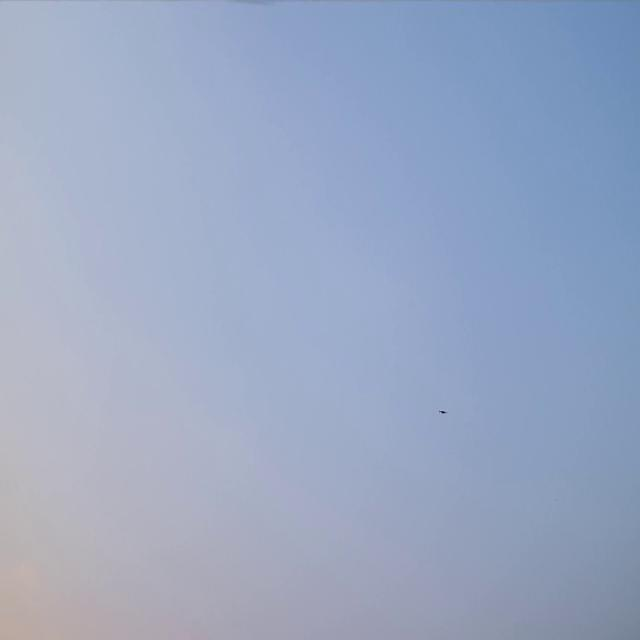UAV: (438, 409, 448, 415)
